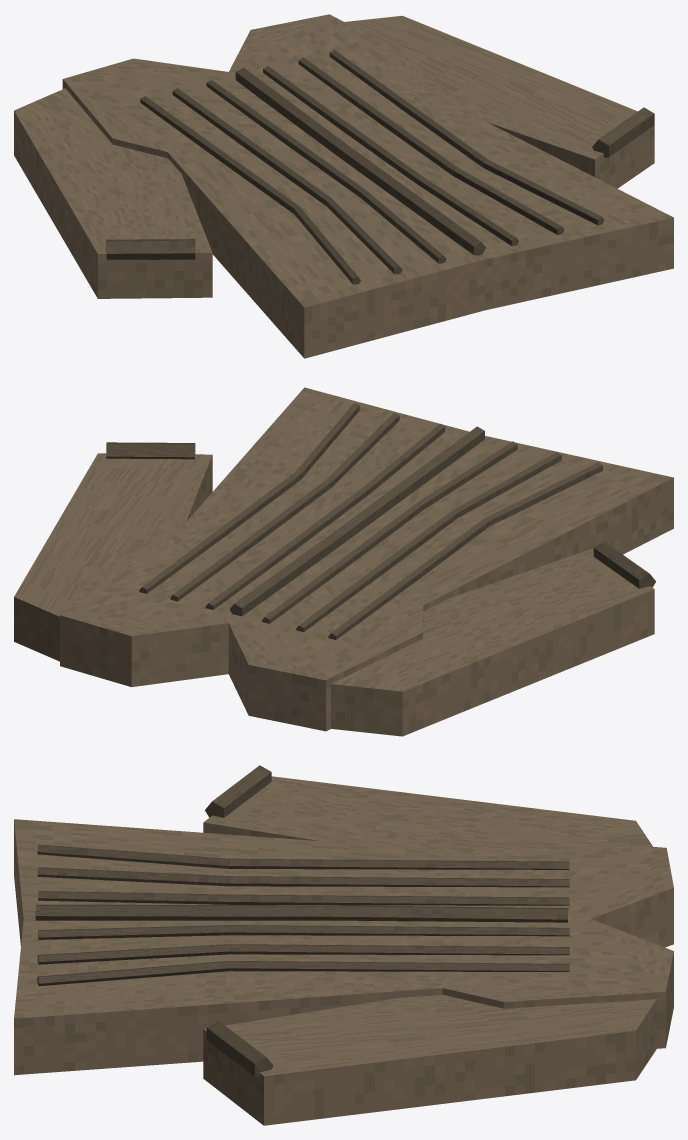
Rendered from gambeson_HEMA.glb.
The picture shows the model from 3 angles, top to bottom: view 1: azimuth 30°, elevation 25°; view 2: azimuth 150°, elevation 25°; view 3: azimuth 270°, elevation 25°; orthographic projection. The views are drawn at different scales.
Visible parts, largest first — view 1: block_garment body, block_sleeve (×2), block_quilt stitching 0 (×6), block_quilt stitching 1 (×6), block_cuff 0 (×2), block_front closure 1, block_front closure 0; view 2: block_garment body, block_sleeve (×2), block_quilt stitching 0 (×6), block_quilt stitching 1 (×6), block_cuff 0 (×2), block_front closure 1, block_front closure 0; view 3: block_garment body, block_sleeve (×2), block_quilt stitching 0 (×6), block_quilt stitching 1 (×6), block_front closure 1, block_front closure 0, block_cuff 0 (×2).
Part boxes in pixels (box(x1,y1,x2,y2)): block_garment body: box(62, 14, 673, 358); block_sleeve (×2): box(14, 15, 654, 298); block_quilt stitching 0 (×6): box(140, 50, 487, 213); block_quilt stitching 1 (×6): box(294, 159, 604, 284); block_cuff 0 (×2): box(106, 107, 654, 259); block_front closure 1: box(332, 139, 485, 255); block_front closure 0: box(235, 67, 339, 152); block_garment body: box(60, 387, 673, 731); block_sleeve (×2): box(14, 453, 654, 736); block_quilt stitching 0 (×6): box(139, 472, 489, 639); block_quilt stitching 1 (×6): box(296, 403, 602, 525); block_cuff 0 (×2): box(106, 442, 655, 588); block_front closure 1: box(336, 426, 484, 542); block_front closure 0: box(229, 530, 343, 616); block_garment body: box(14, 819, 673, 1075); block_sleeve (×2): box(203, 776, 656, 1125); block_quilt stitching 0 (×6): box(229, 858, 569, 971); block_quilt stitching 1 (×6): box(37, 844, 229, 986); block_front closure 1: box(35, 904, 347, 920); block_front closure 0: box(348, 905, 568, 922); block_cuff 0 (×2): box(205, 765, 273, 1077).
Size of the model in its own units: 0.9077 by 0.0995 by 0.8417.
Materials: 1 (1 with a texture image).
